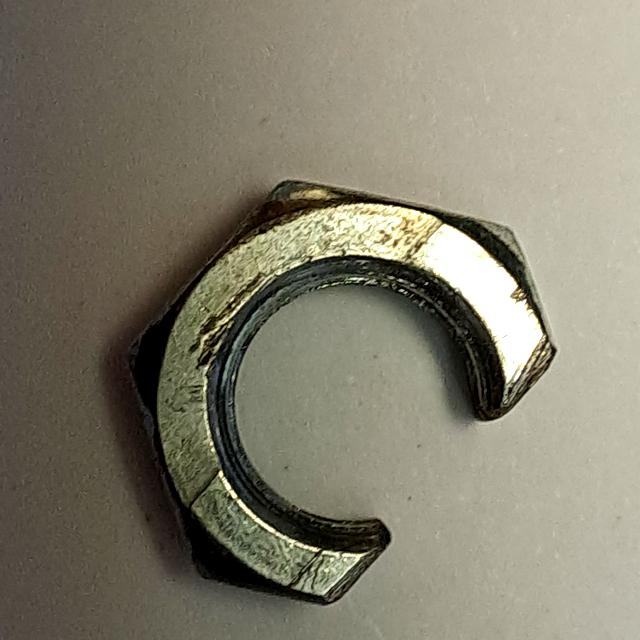Fracture: (100, 162, 573, 621)
